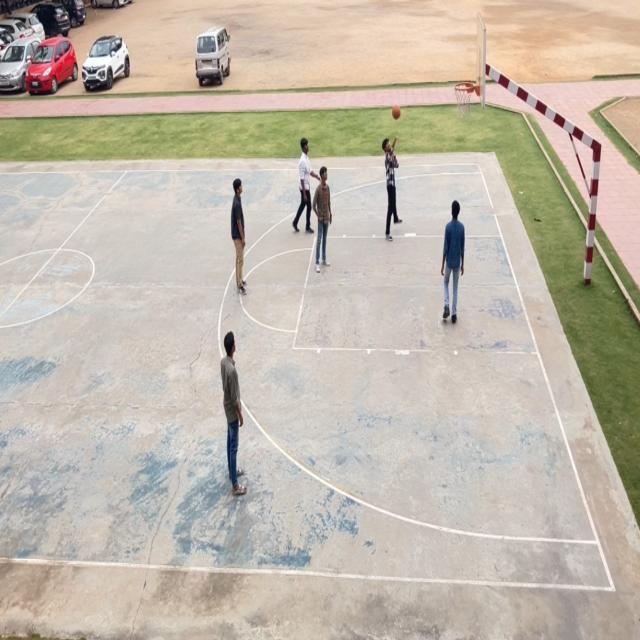basketball: (390, 102, 404, 126)
hoop: (453, 82, 475, 119)
